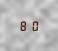eight: (19, 20, 28, 31)
zero: (29, 20, 38, 31)
